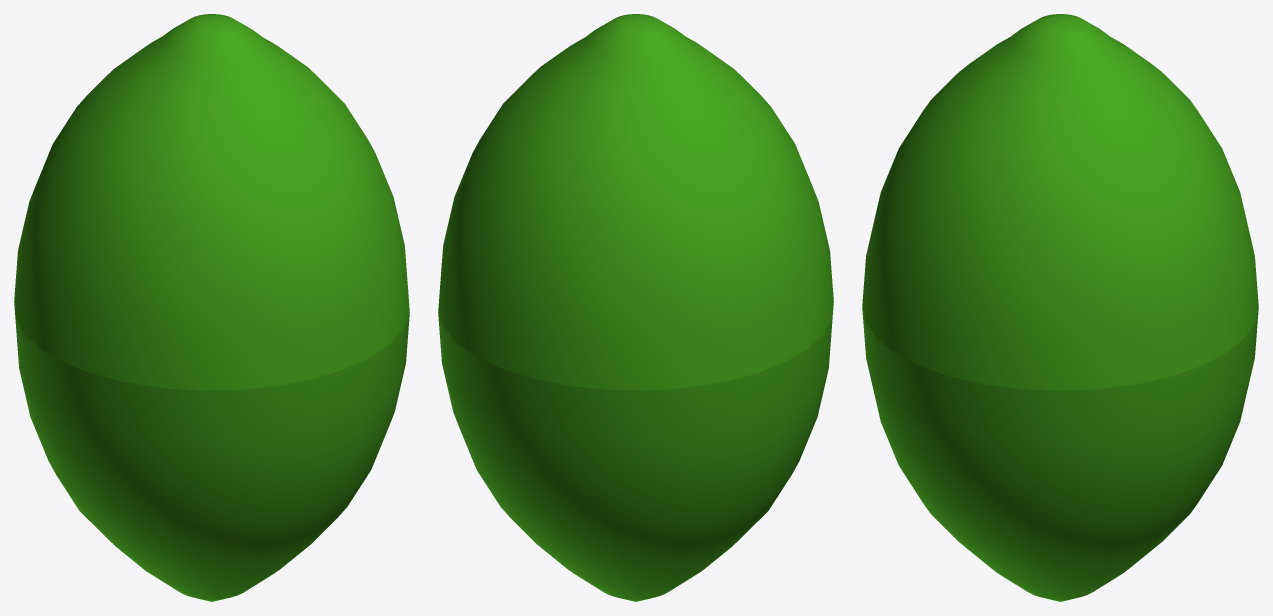
The model's file is Fruit_Lime_Sliced.fbx.
The picture shows the model from 3 angles, left to right: view 1: azimuth 30°, elevation 25°; view 2: azimuth 150°, elevation 25°; view 3: azimuth 270°, elevation 25°; orthographic projection.
Visible parts, largest first — view 1: Lime_Top, Lime_Bottom; view 2: Lime_Top, Lime_Bottom; view 3: Lime_Top, Lime_Bottom.
Boxes of the visible parts, left/top/right/bottom form: Lime_Top: left=14, top=14, right=409, bottom=390; Lime_Bottom: left=15, top=313, right=409, bottom=601; Lime_Top: left=438, top=14, right=833, bottom=390; Lime_Bottom: left=438, top=313, right=832, bottom=601; Lime_Top: left=862, top=14, right=1258, bottom=390; Lime_Bottom: left=862, top=308, right=1258, bottom=601.
Bounding box in the file's own units: 137 × 222 × 137.
